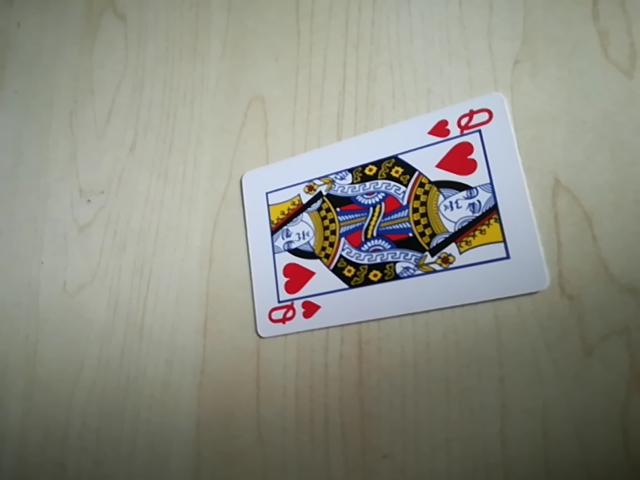hx q: (422, 102, 497, 141), (262, 295, 325, 332)
